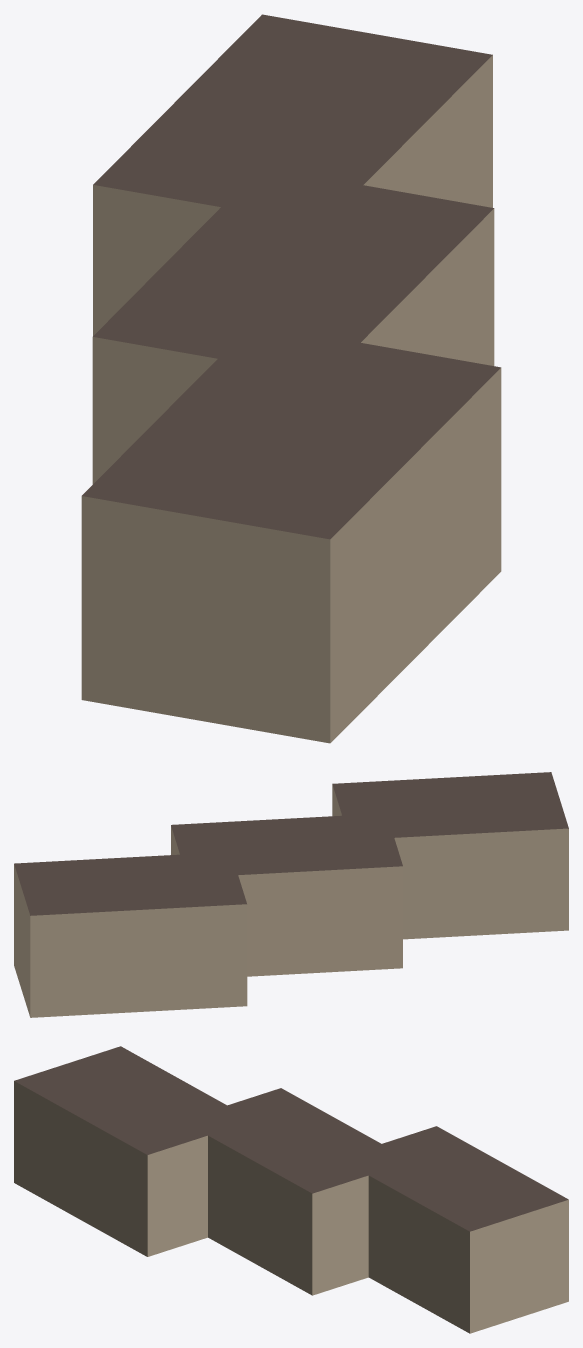
The picture shows the model from 3 angles, top to bottom: view 1: azimuth 30°, elevation 25°; view 2: azimuth 150°, elevation 25°; view 3: azimuth 270°, elevation 25°; orthographic projection. The views are drawn at different scales.
Visible parts, largest first — view 1: HP-w859488843; view 2: HP-w859488843; view 3: HP-w859488843.
Boxes of the visible parts, <box> form: HP-w859488843: <box>81,14,501,743</box>; HP-w859488843: <box>14,772,568,1017</box>; HP-w859488843: <box>14,1046,568,1333</box>.
Size of the model in its own units: 35.1 by 9 by 44.37.
